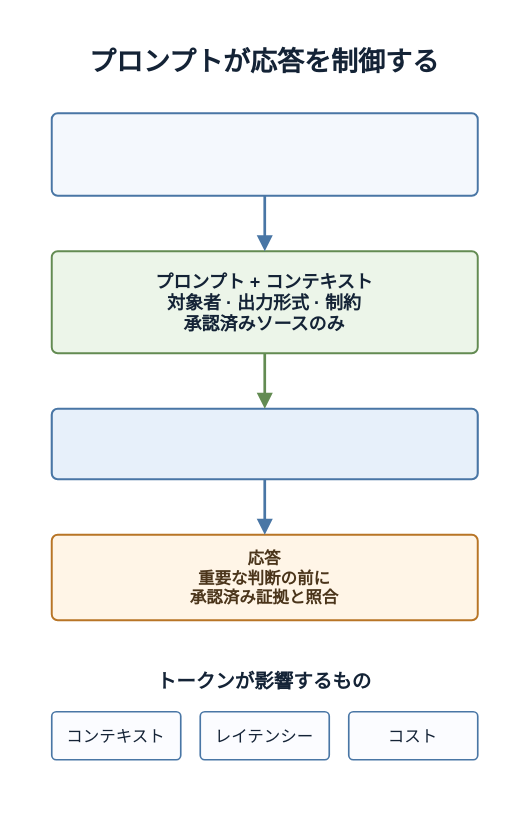
This 530x818 diagram has some shape labels left out. The box of each missing label's shape, as (x1, y1, x2, y2) in pixels:
ユーザーの目的 + 制約 タスク · 読者 · 許可された情報: (50, 112, 478, 196)
基盤モデル: (50, 407, 478, 480)
